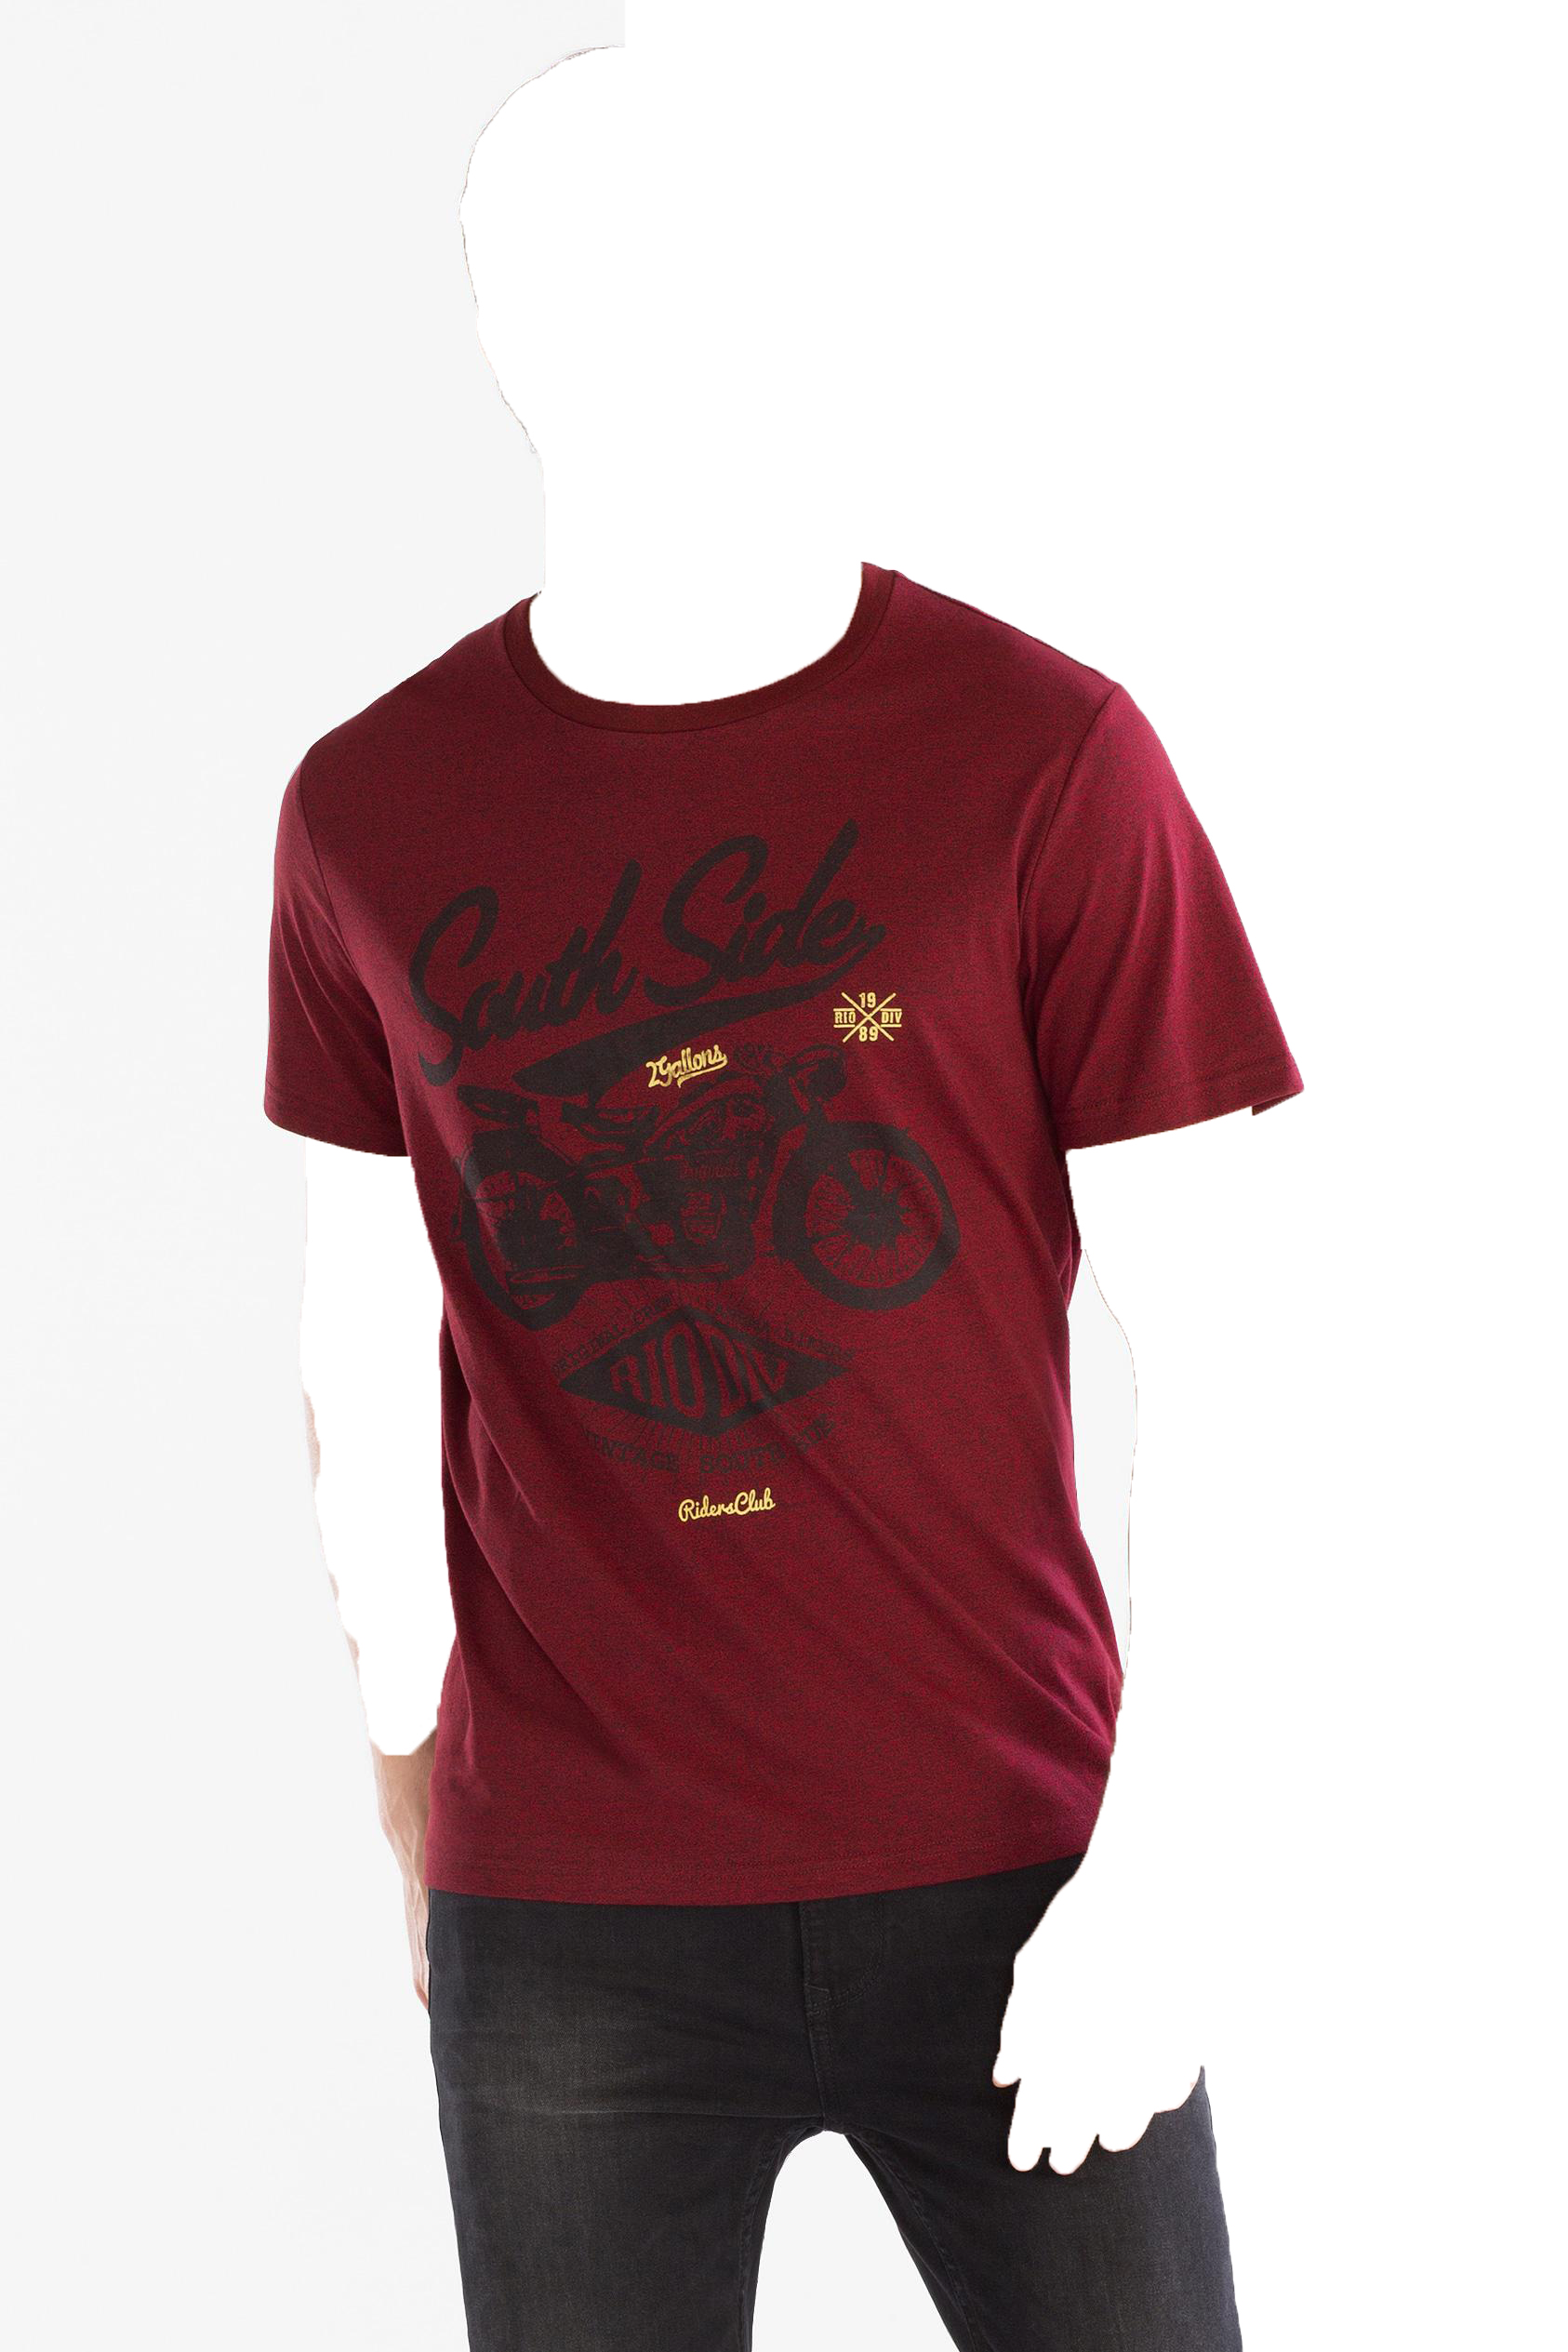teeshirt: (191, 560, 1314, 1906)
